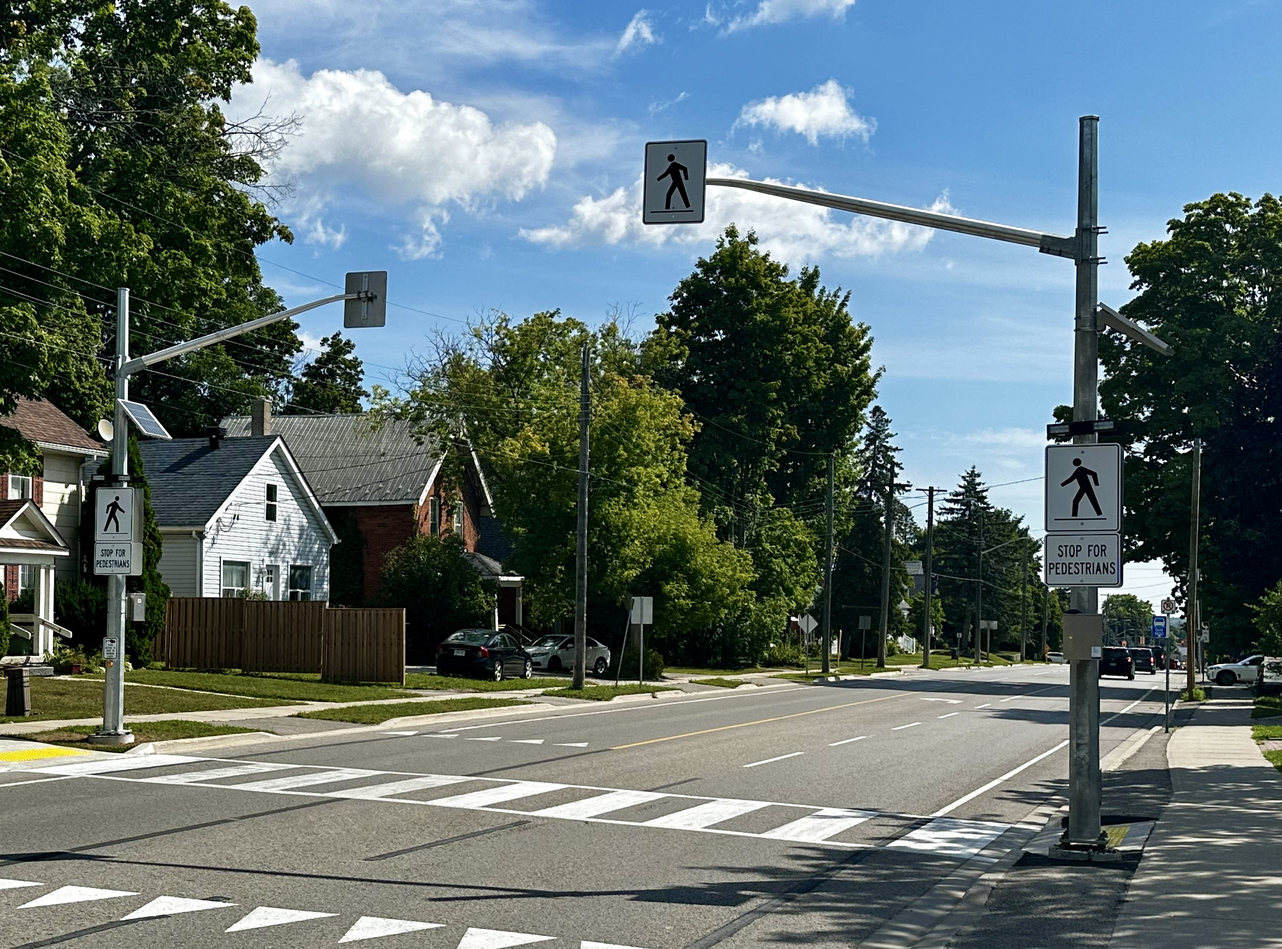Crosswalk: (38, 703, 1013, 909)
